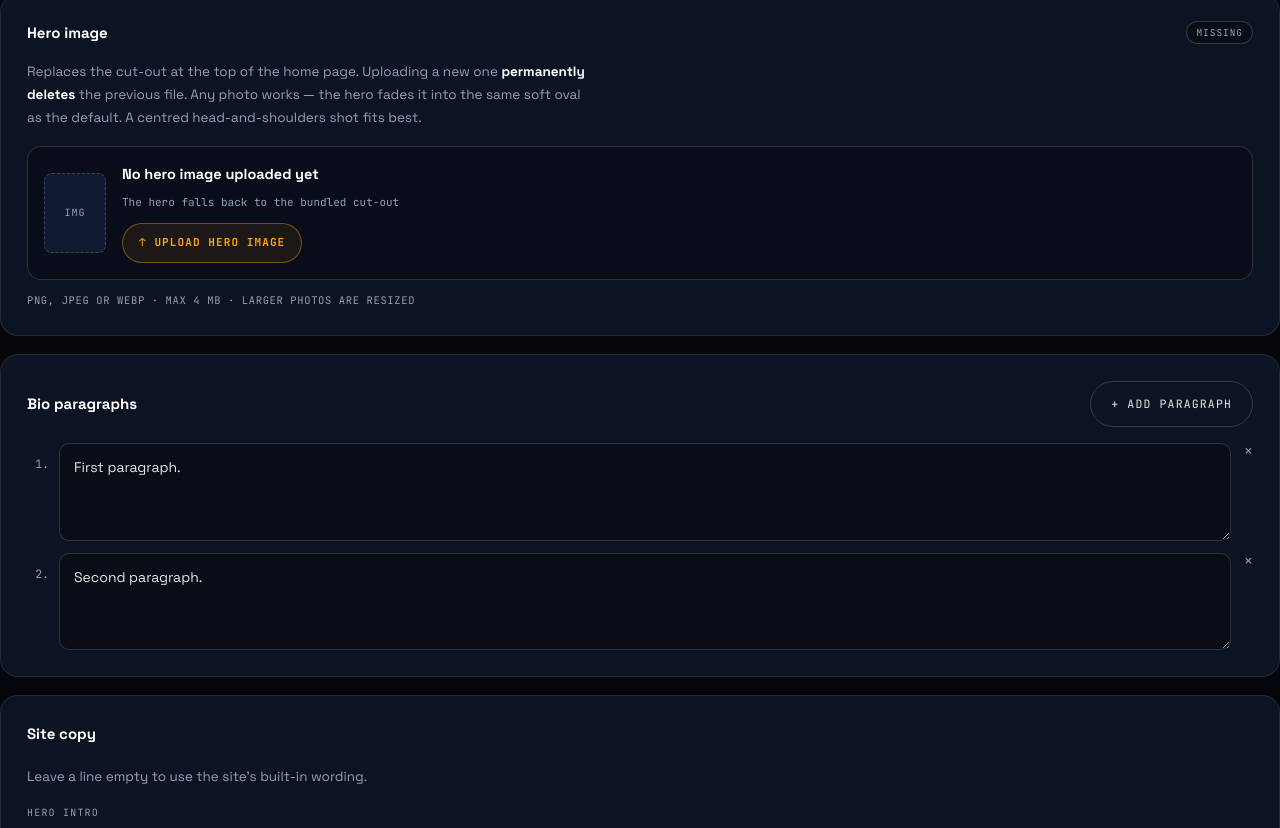
Test case: bio paragraphs › removes a paragraph
The image size is (1280, 828).
(page scrolled)
Click the button named "Remove paragraph 1" at [1247, 451], box [1241, 443, 1253, 458]
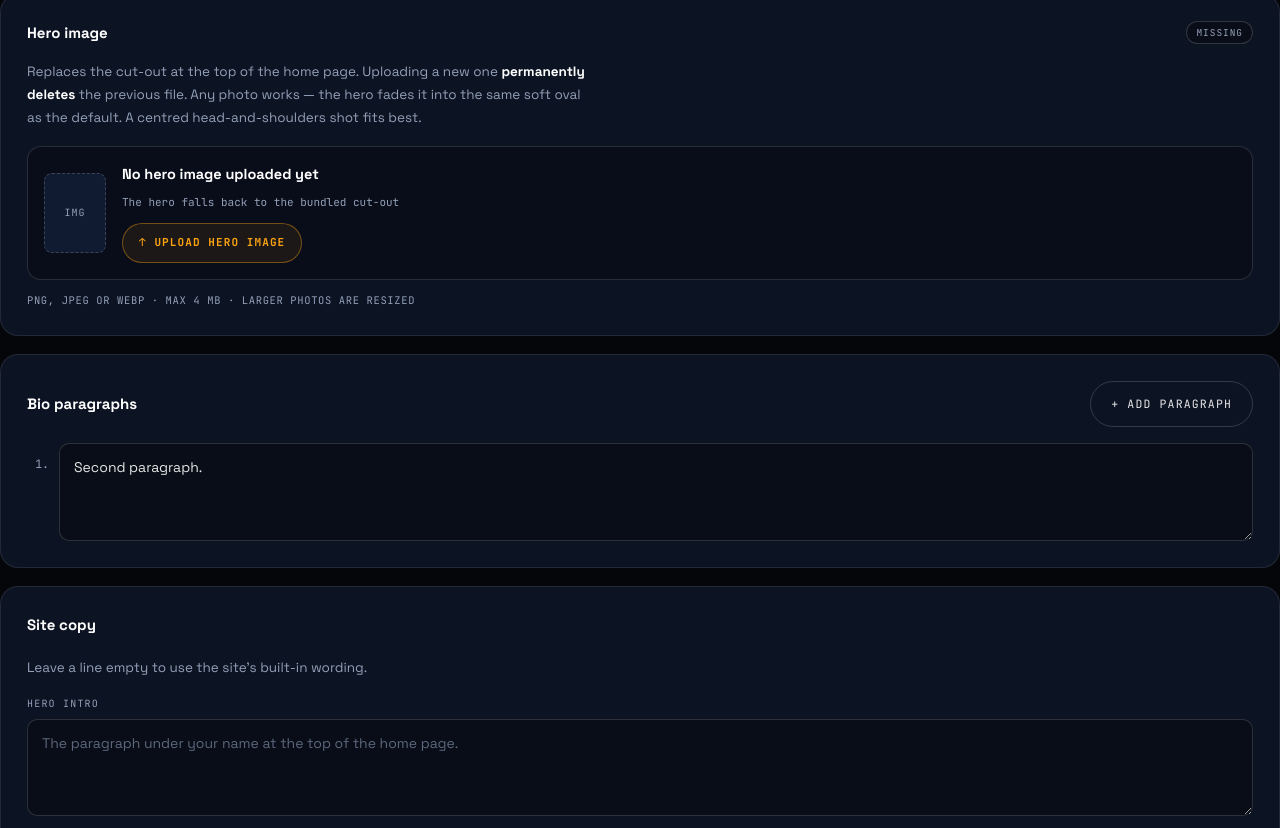
Check: the text box named "Bio paragraph 1" holds "Second paragraph.", box [59, 443, 1253, 541]
